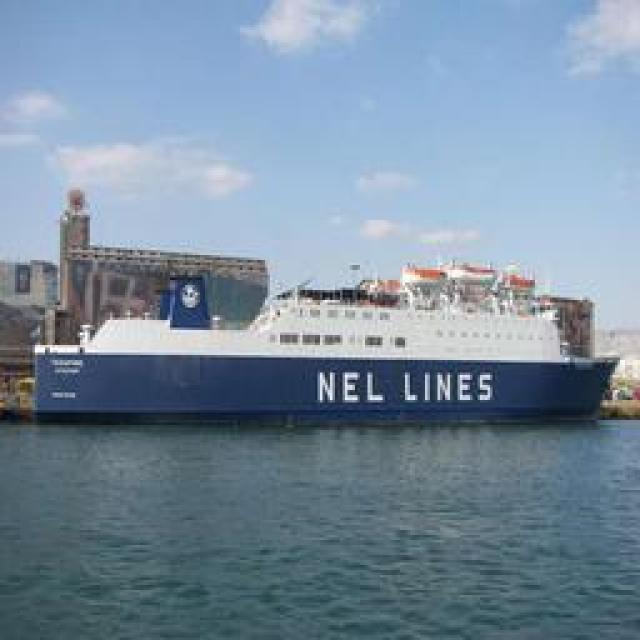CIV_Ship: (22, 252, 618, 428)
